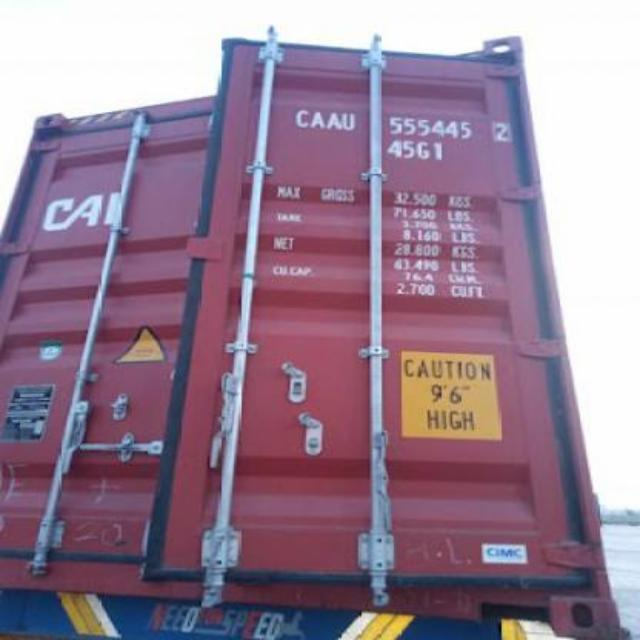2: (488, 114, 509, 148)
4: (428, 111, 444, 141), (444, 111, 456, 143)
5: (456, 113, 472, 143), (402, 112, 416, 140), (388, 113, 402, 137), (416, 112, 429, 136)
A: (326, 104, 342, 132), (310, 103, 326, 127)
C: (294, 103, 308, 127)
U: (342, 105, 356, 132)
